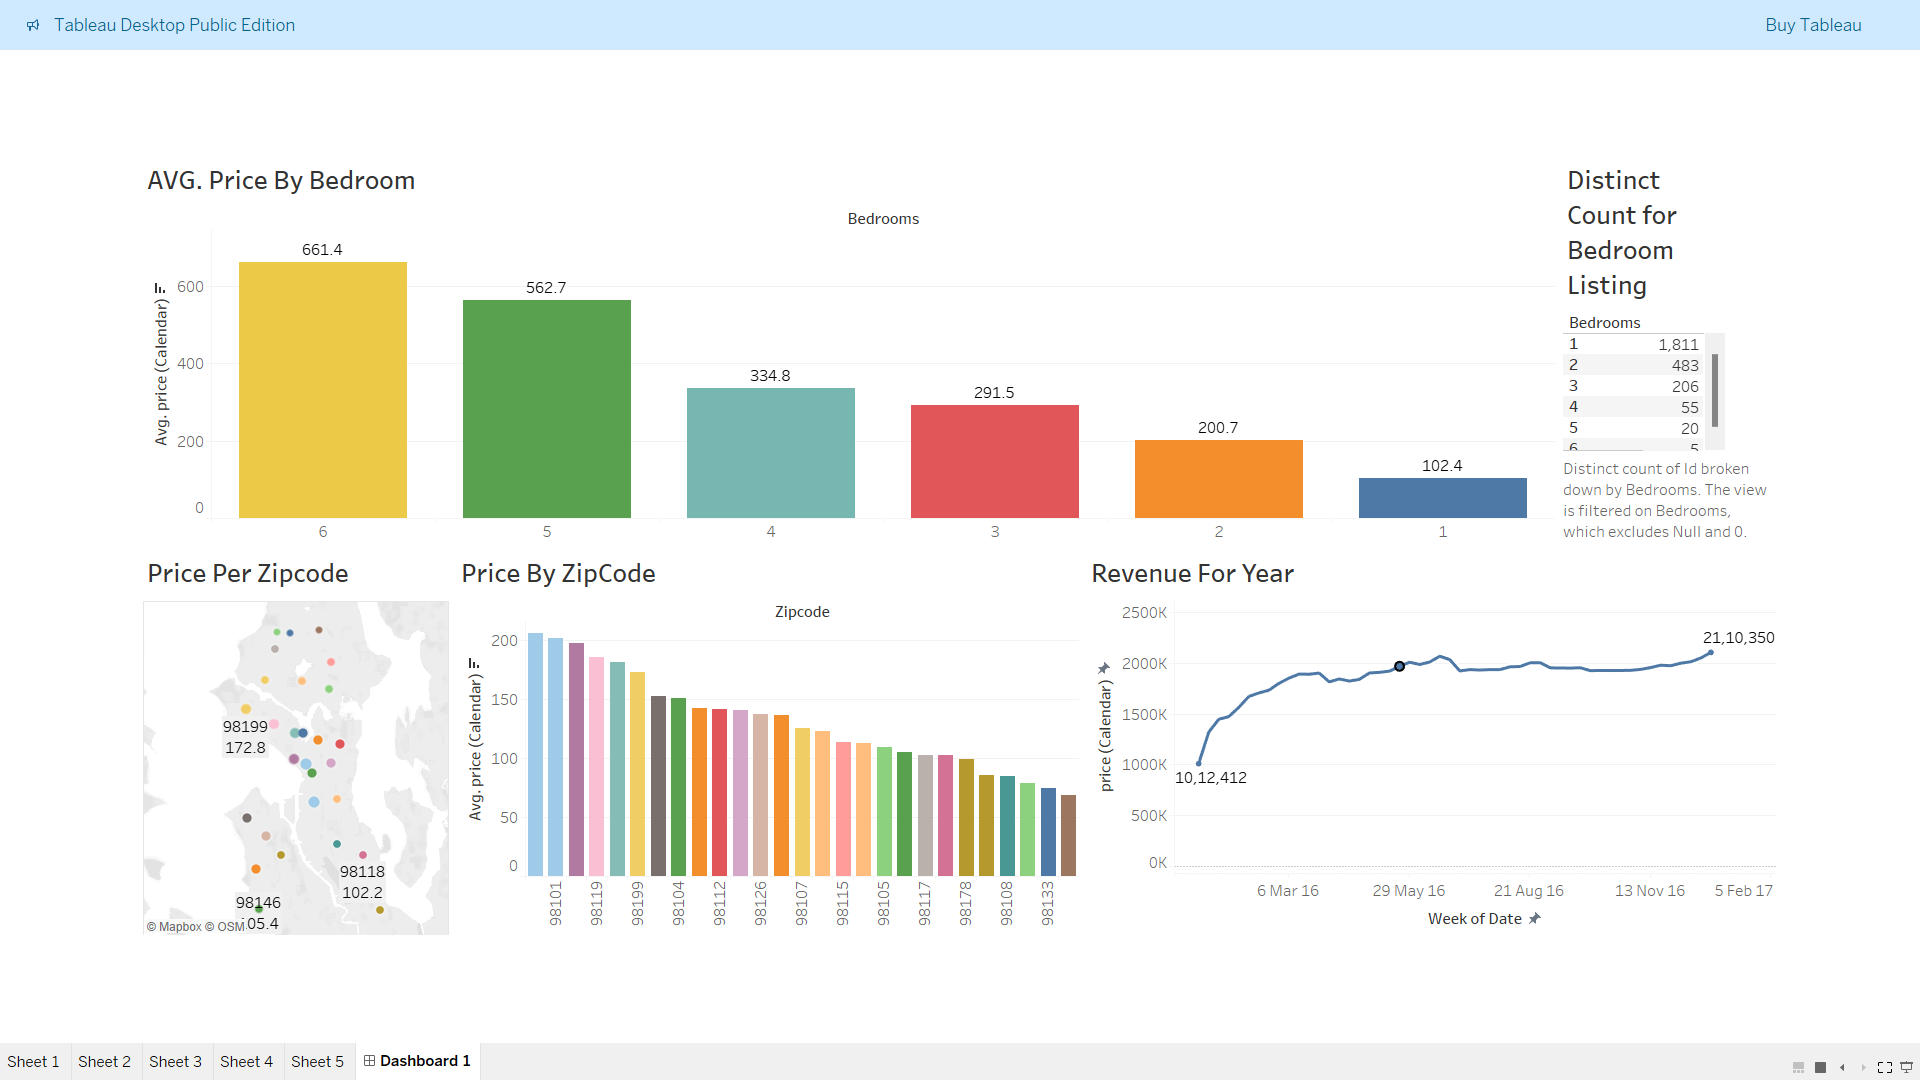

What the dashboard file says about the page in this screenshot:
{"tool":"tableau","page":{"name":"Dashboard 1","canvas":[1657,801],"ordinal":0},"visuals":[{"type":"worksheet","title":"Sheet 4","mark":"Automatic","rows":["price (Calendar)"],"cols":["bedrooms"],"box":[8,8,1420,392.5]},{"type":"worksheet","title":"Sheet 5","mark":"Automatic","rows":["bedrooms"],"box":[1428,8,221,392.5]},{"type":"worksheet","title":"Sheet 2","mark":"Automatic","rows":["latitude"],"cols":["longitude"],"box":[8,400.5,314,392.5]},{"type":"worksheet","title":"Sheet 1","mark":"Automatic","rows":["price (Calendar)"],"cols":["zipcode"],"box":[322,400.5,630,392.5]},{"type":"worksheet","title":"Sheet 3","mark":"Automatic","rows":["price (Calendar)"],"cols":["date"],"box":[952,400.5,697,392.5]}]}

Visuals, with their boxes on the page's 1657x801 design canvas (x1, y1, x2, y2). These are canvas units, not pixel positions in the 1920x1080 screenshot, which may show the page scaled, cropped or inside an application window:
"Sheet 4" worksheet: (left=8, top=8, right=1428, bottom=400)
"Sheet 5" worksheet: (left=1428, top=8, right=1649, bottom=400)
"Sheet 2" worksheet: (left=8, top=400, right=322, bottom=793)
"Sheet 1" worksheet: (left=322, top=400, right=952, bottom=793)
"Sheet 3" worksheet: (left=952, top=400, right=1649, bottom=793)
